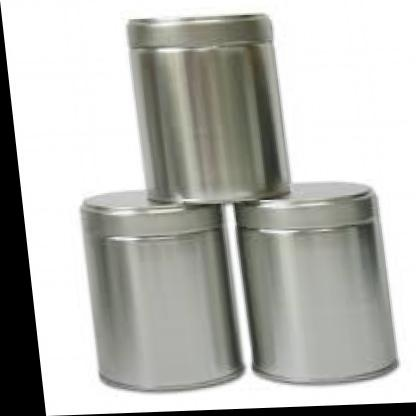trash: (81, 14, 397, 389), (236, 183, 396, 382), (81, 191, 241, 389), (128, 14, 289, 202)
